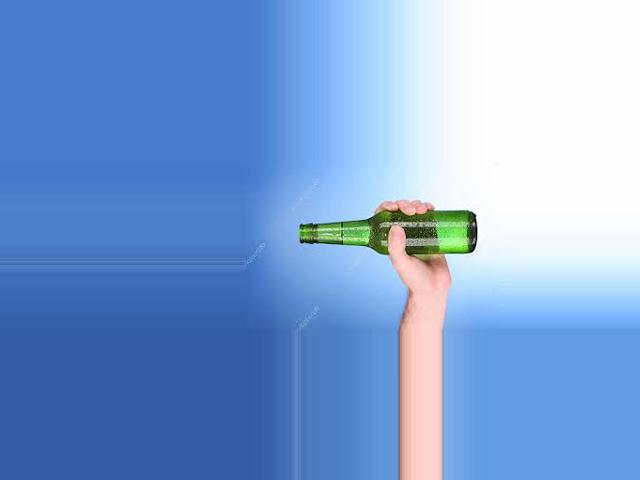beer: (299, 211, 477, 254)
